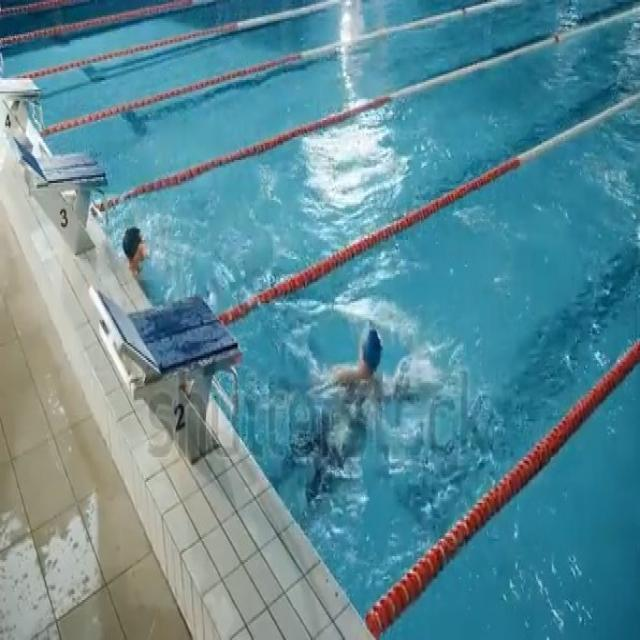swimming: (281, 333, 422, 498), (110, 205, 173, 292)
